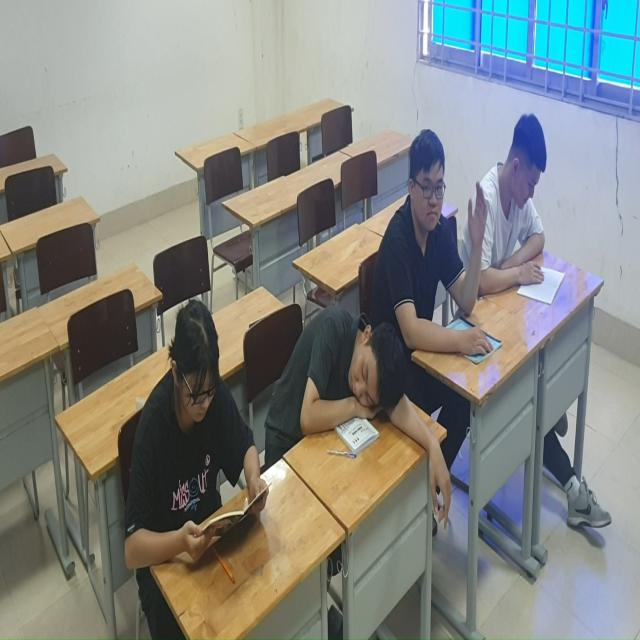raise_hand: (402, 121, 488, 344)
read: (121, 294, 270, 576), (475, 109, 570, 310)
sleep: (263, 306, 425, 479)
